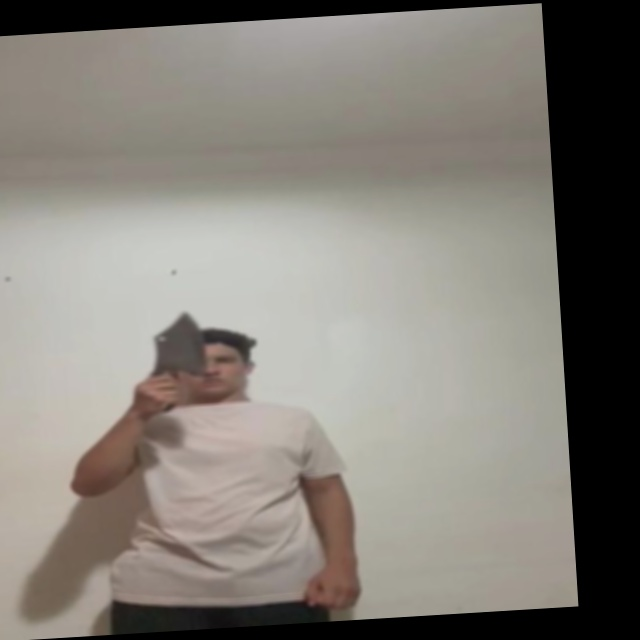Sharp-Object: (148, 312, 205, 377)
